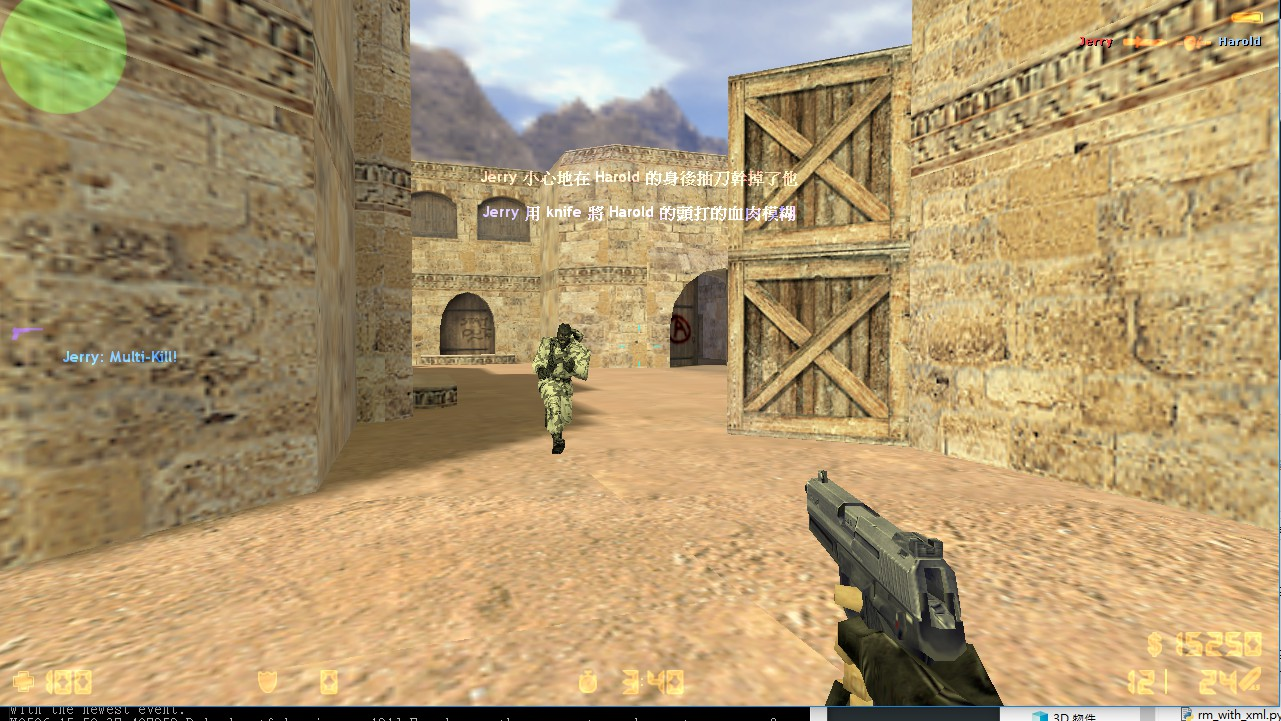person: (531, 308, 600, 461)
